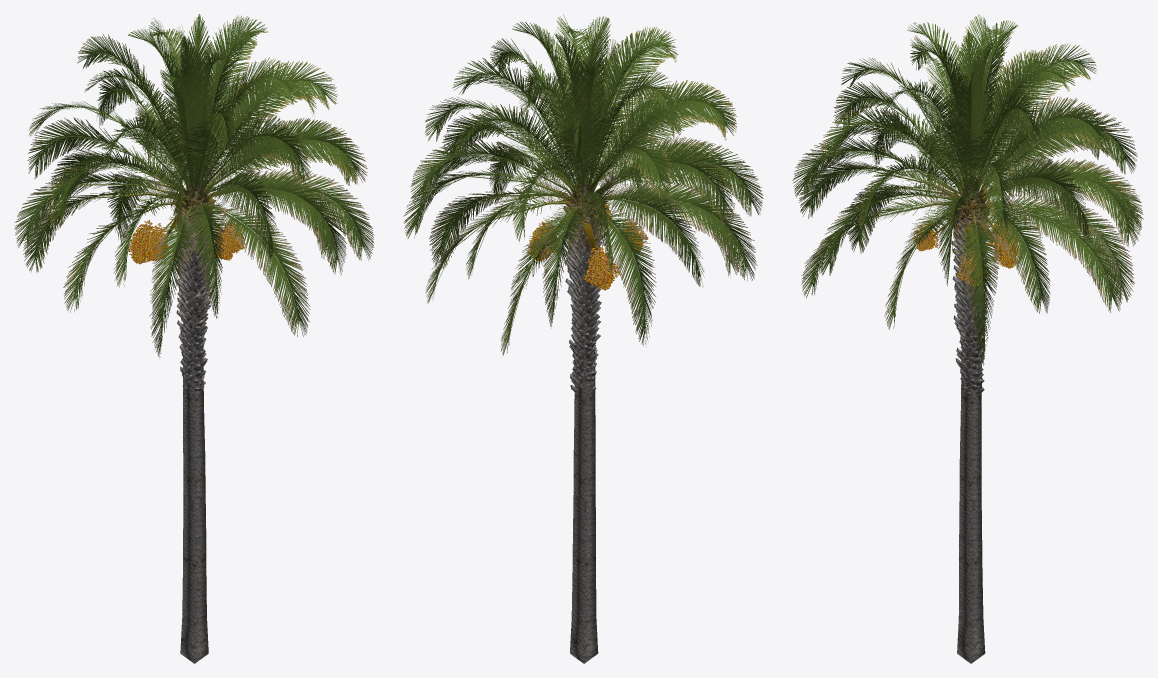
File: Phoenix canariensis HD_Urban 1 mat 100_LOD4.fbx
3 renders of one model, left to right at view 1: azimuth 30°, elevation 25°; view 2: azimuth 150°, elevation 25°; view 3: azimuth 270°, elevation 25°, orthographic.
Parts seen in each view (by area): view 1: Phoenix_canariensis_HD; view 2: Phoenix_canariensis_HD; view 3: Phoenix_canariensis_HD.
Part boxes in pixels (x1,y1,x2,y2): Phoenix_canariensis_HD: [14, 14, 374, 663]; Phoenix_canariensis_HD: [403, 14, 763, 663]; Phoenix_canariensis_HD: [792, 14, 1143, 663].
Bounding box in the file's own units: 7.84 × 15.43 × 7.87.
Materials: 23 (23 with a texture image).
